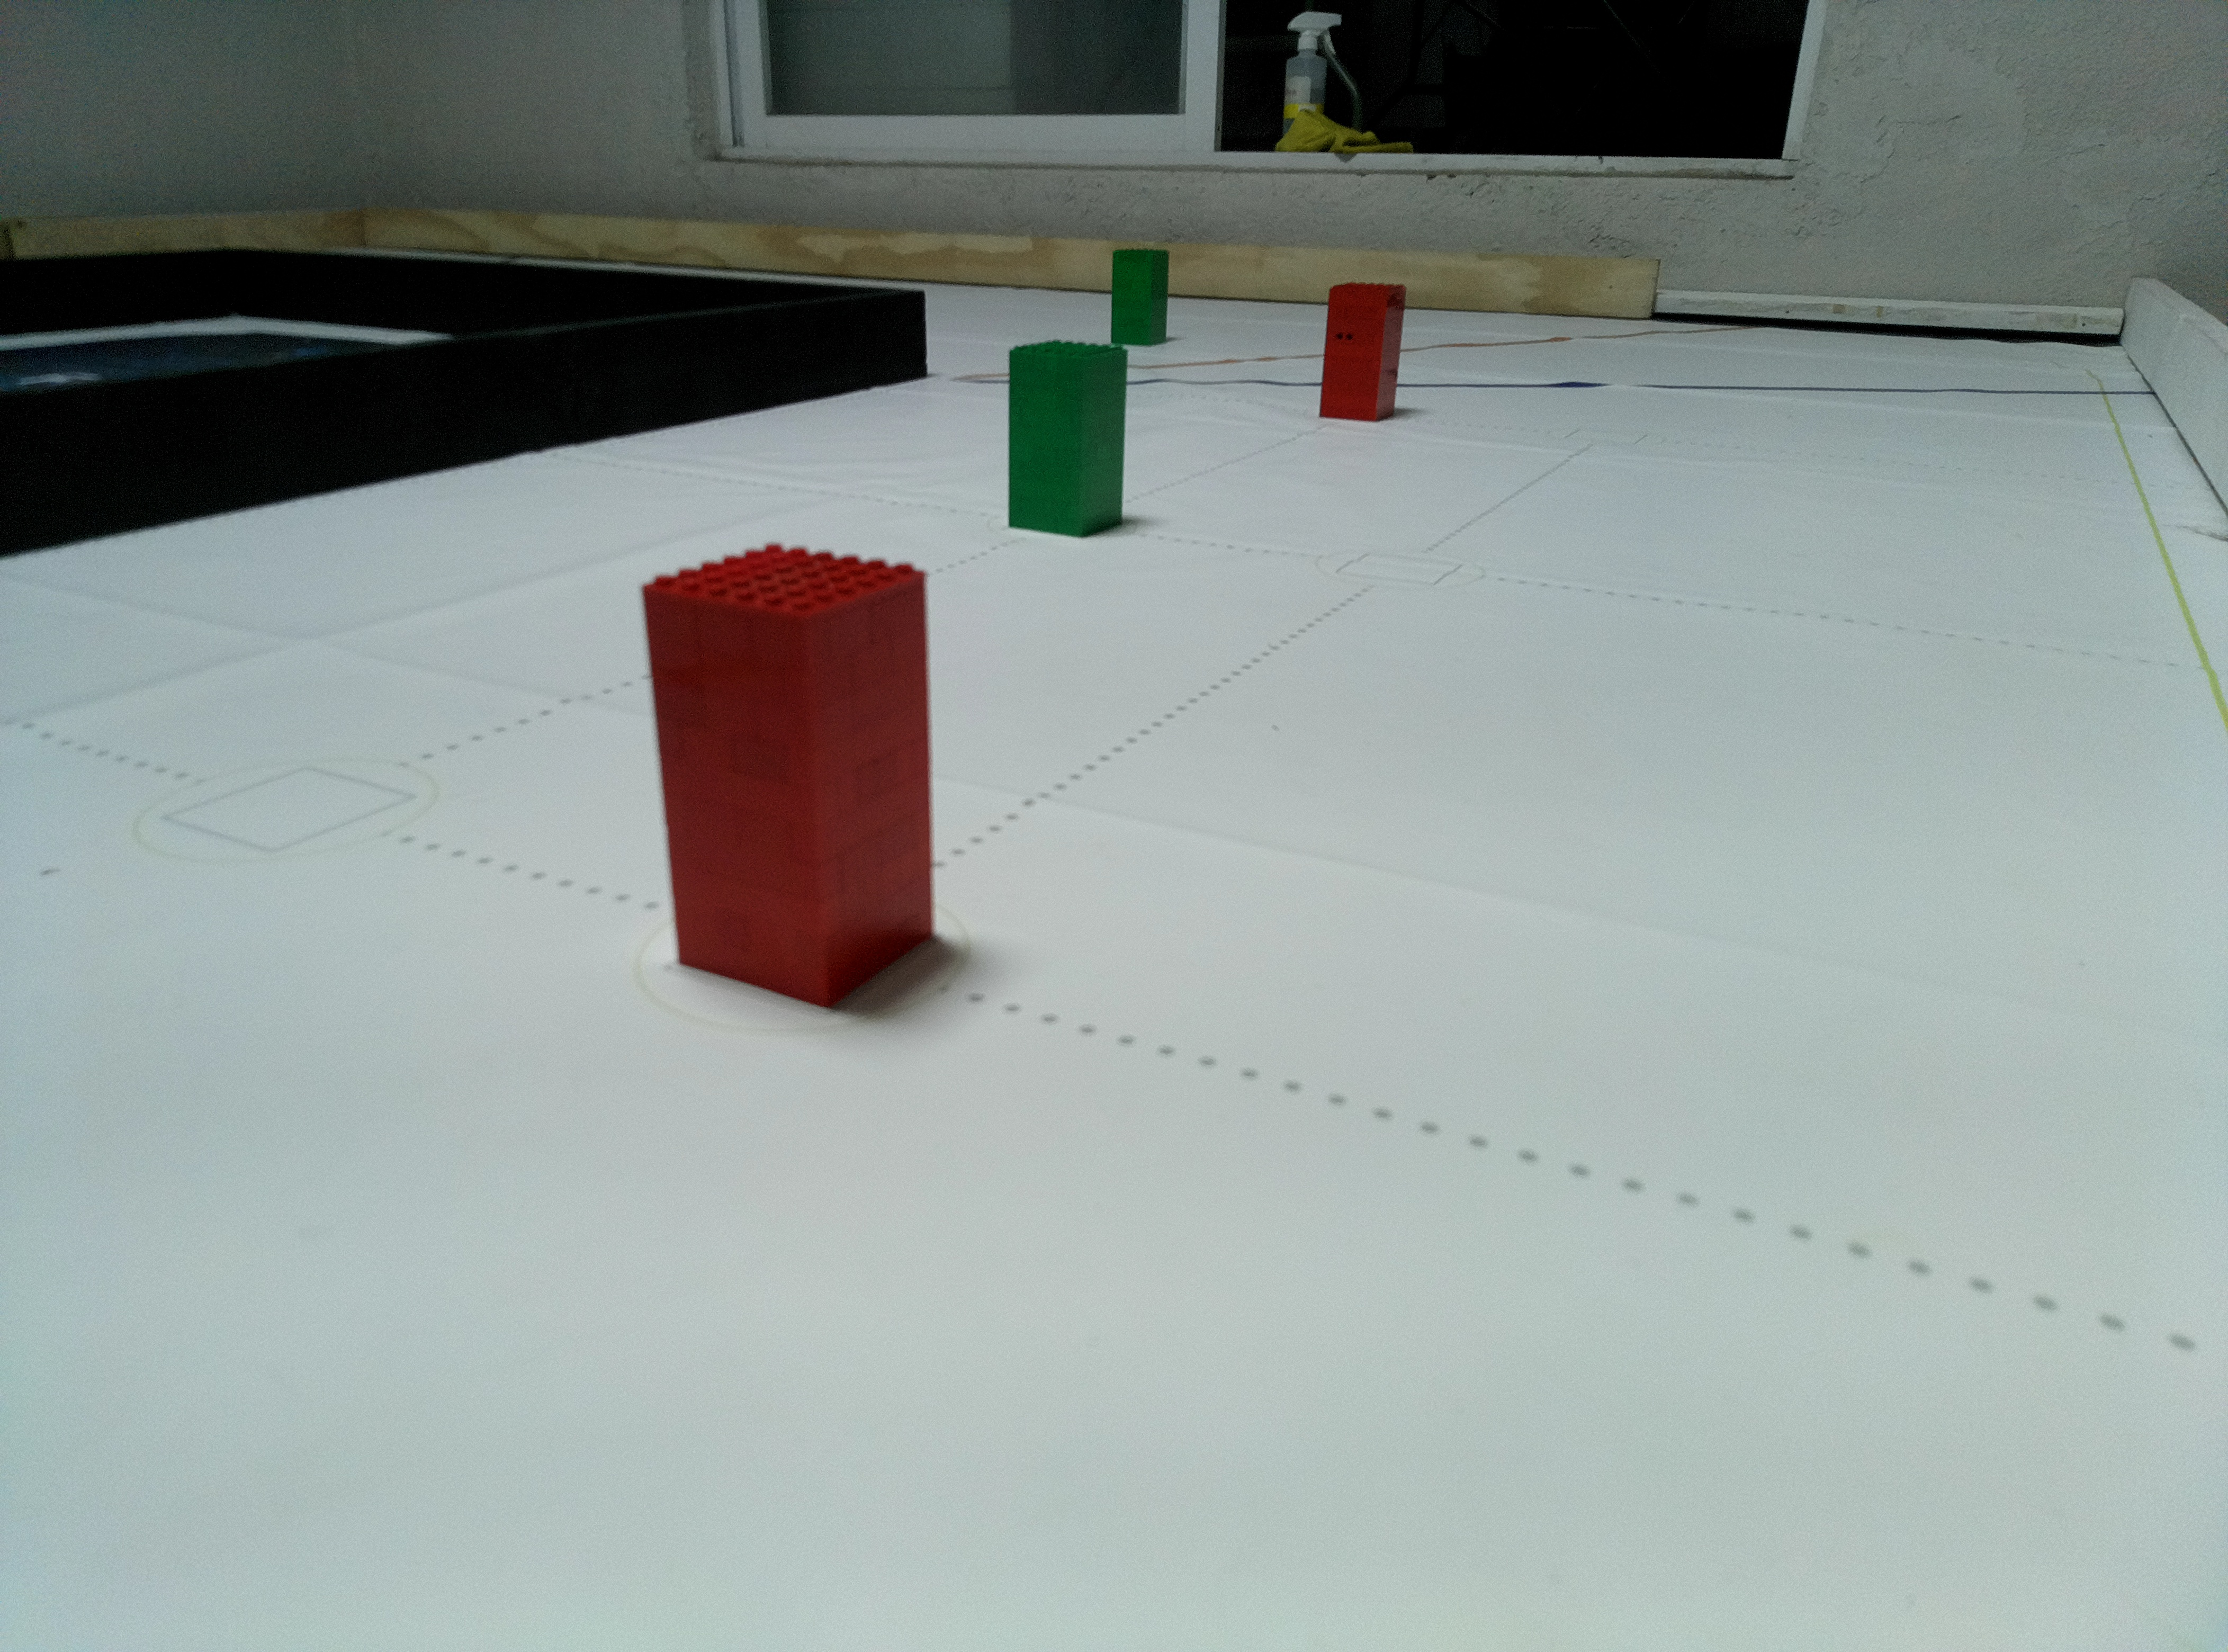greenbox: (1006, 340, 1130, 540), (1109, 246, 1171, 347)
redbox: (639, 541, 940, 1012), (1317, 283, 1407, 422)
